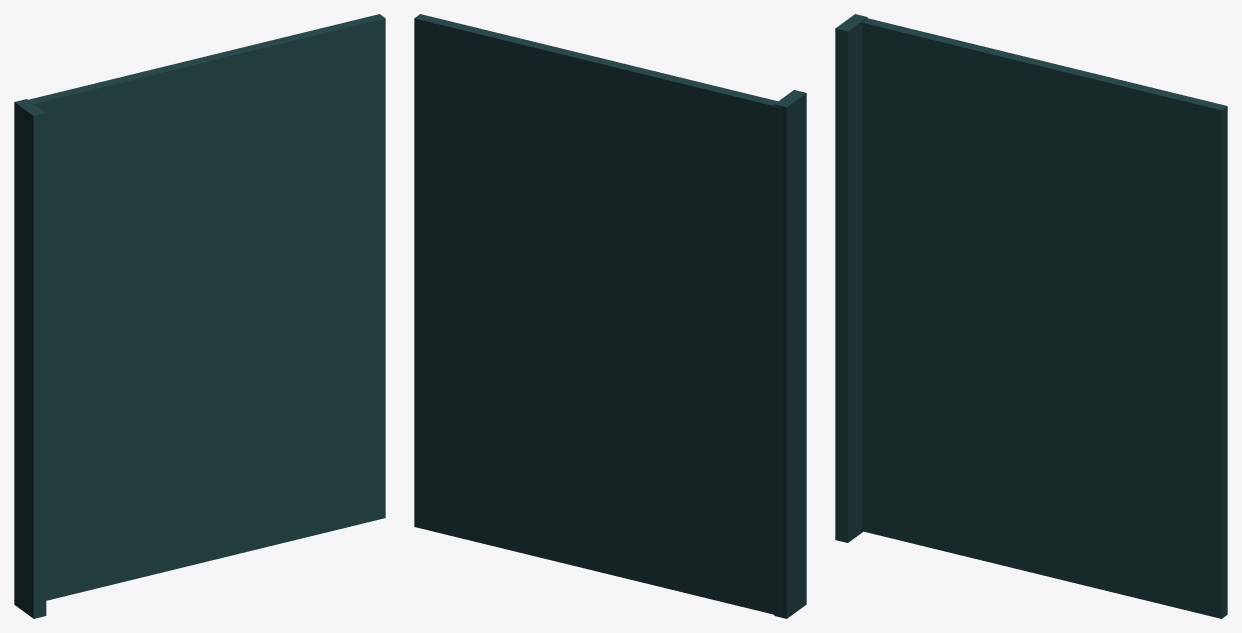
The model's file is back.obj.
The picture shows the model from 3 angles, left to right: view 1: azimuth 30°, elevation 25°; view 2: azimuth 150°, elevation 25°; view 3: azimuth 330°, elevation 25°; orthographic projection.
Bounding box in the file's own units: 6.51 × 8.55 × 0.61.
1 material, 1 textured.
